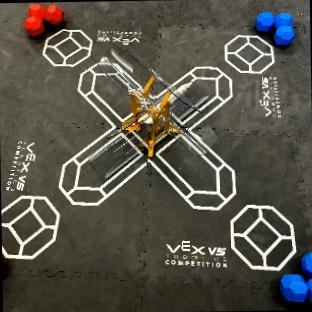V5_BLUE: (281, 252, 312, 301), (255, 11, 294, 45), (275, 25, 293, 45)
V5_RED: (24, 4, 63, 35)
